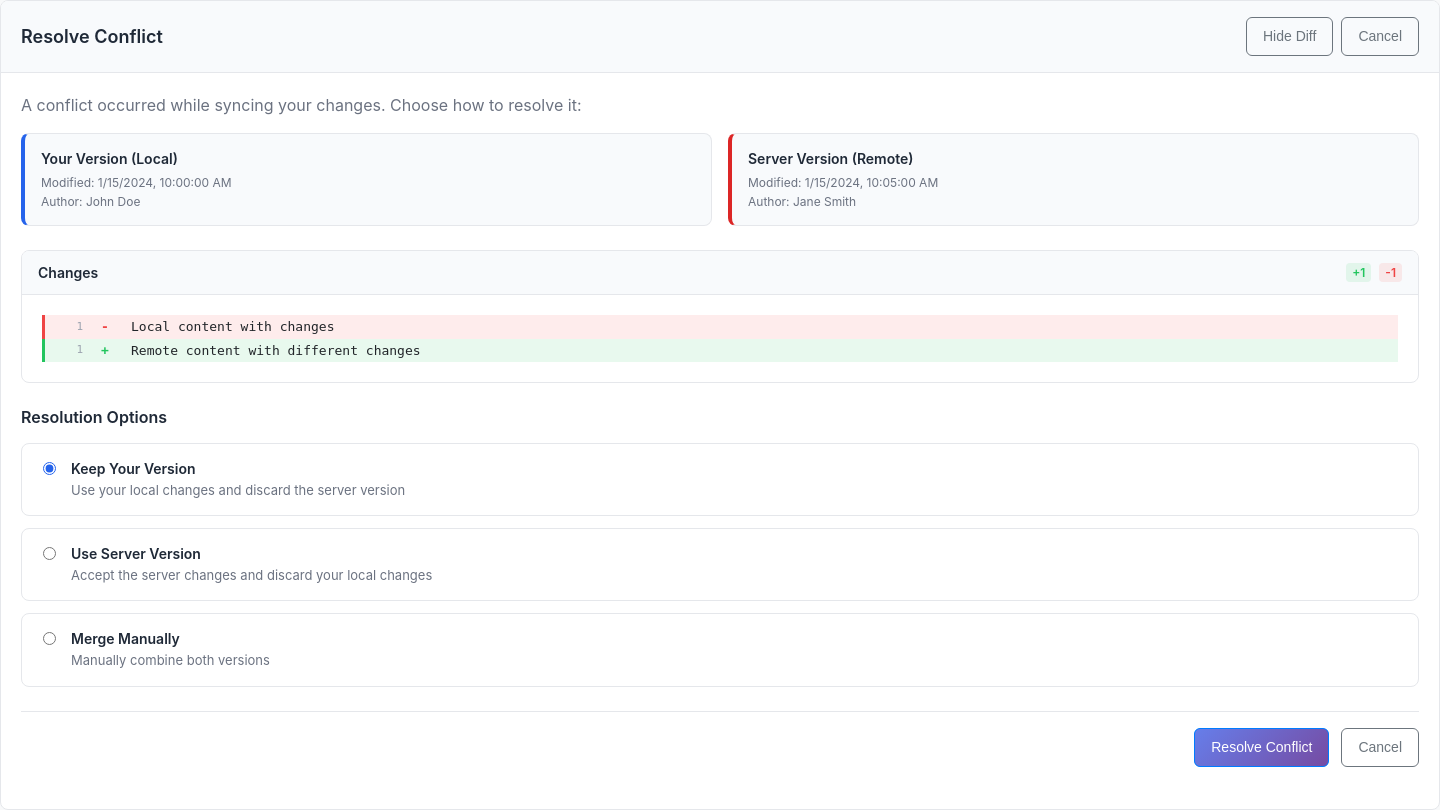
Scenario: ConflictResolution › shows merge editor when manual merge is selected
Click the radio button showing "merged".
click(50, 639)  # box [43, 632, 56, 645]
(page scrolled)
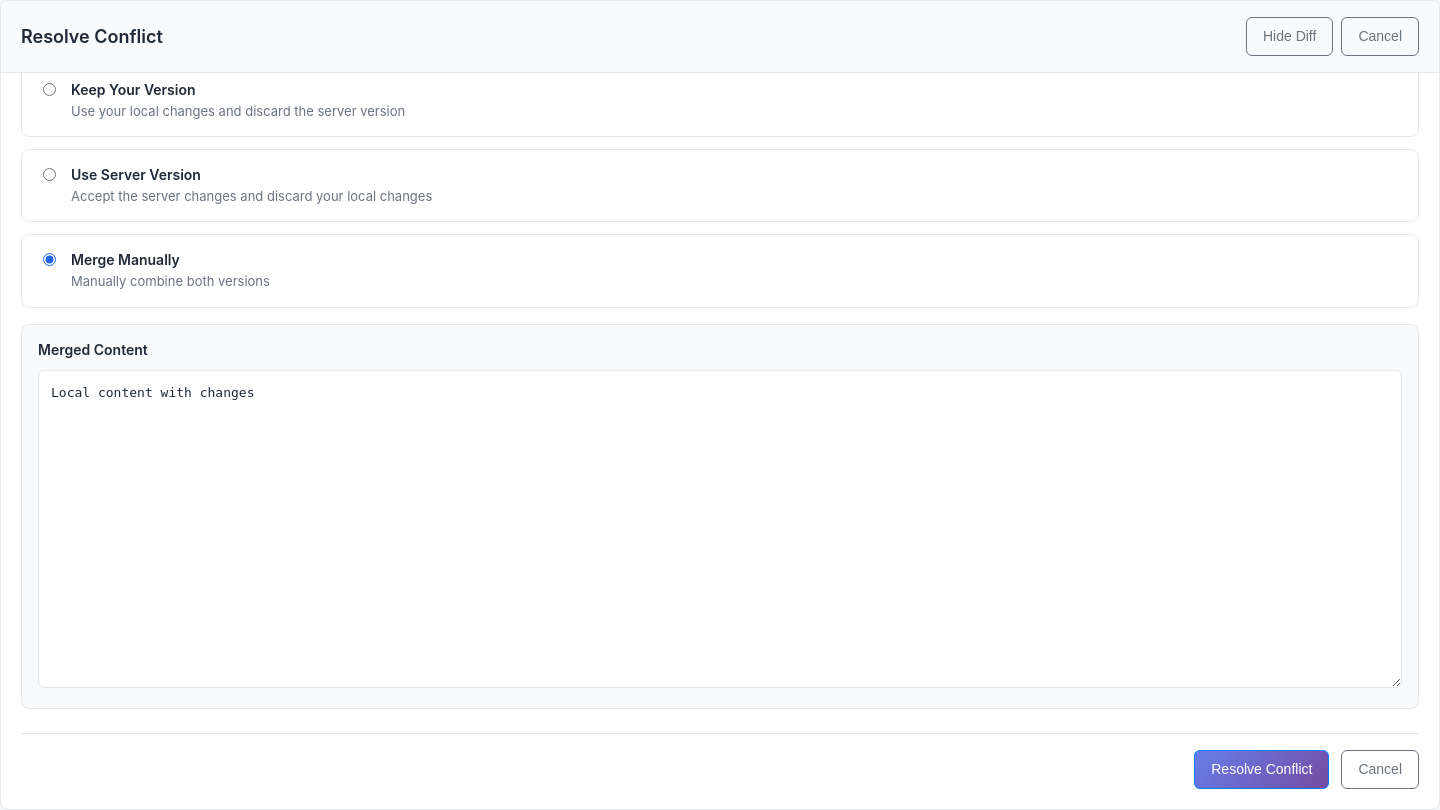
Now the heading "Merged Content" is shown, box [38, 341, 148, 358]
Now the text box is shown, box [38, 370, 1402, 688]
